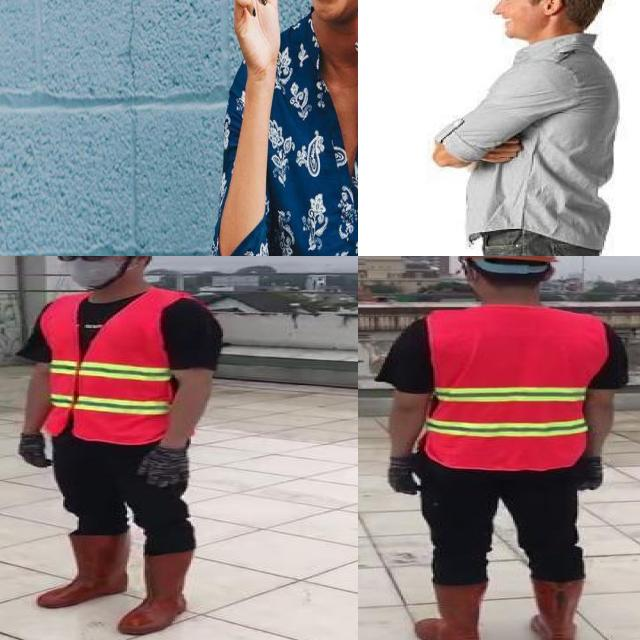No_Ear-Protection: (535, 0, 565, 16)
boots: (34, 533, 132, 609), (120, 548, 194, 637), (526, 578, 602, 640), (413, 579, 489, 640)
face_mask: (54, 256, 132, 289)
face_nomask: (476, 0, 528, 42)
glasses: (50, 256, 125, 266)
hand_glove: (134, 445, 191, 488), (382, 455, 428, 495), (17, 430, 58, 468), (570, 458, 611, 492)
person: (371, 256, 640, 640), (7, 256, 228, 636), (429, 0, 626, 256)
vest: (421, 306, 604, 468), (35, 292, 208, 446)
